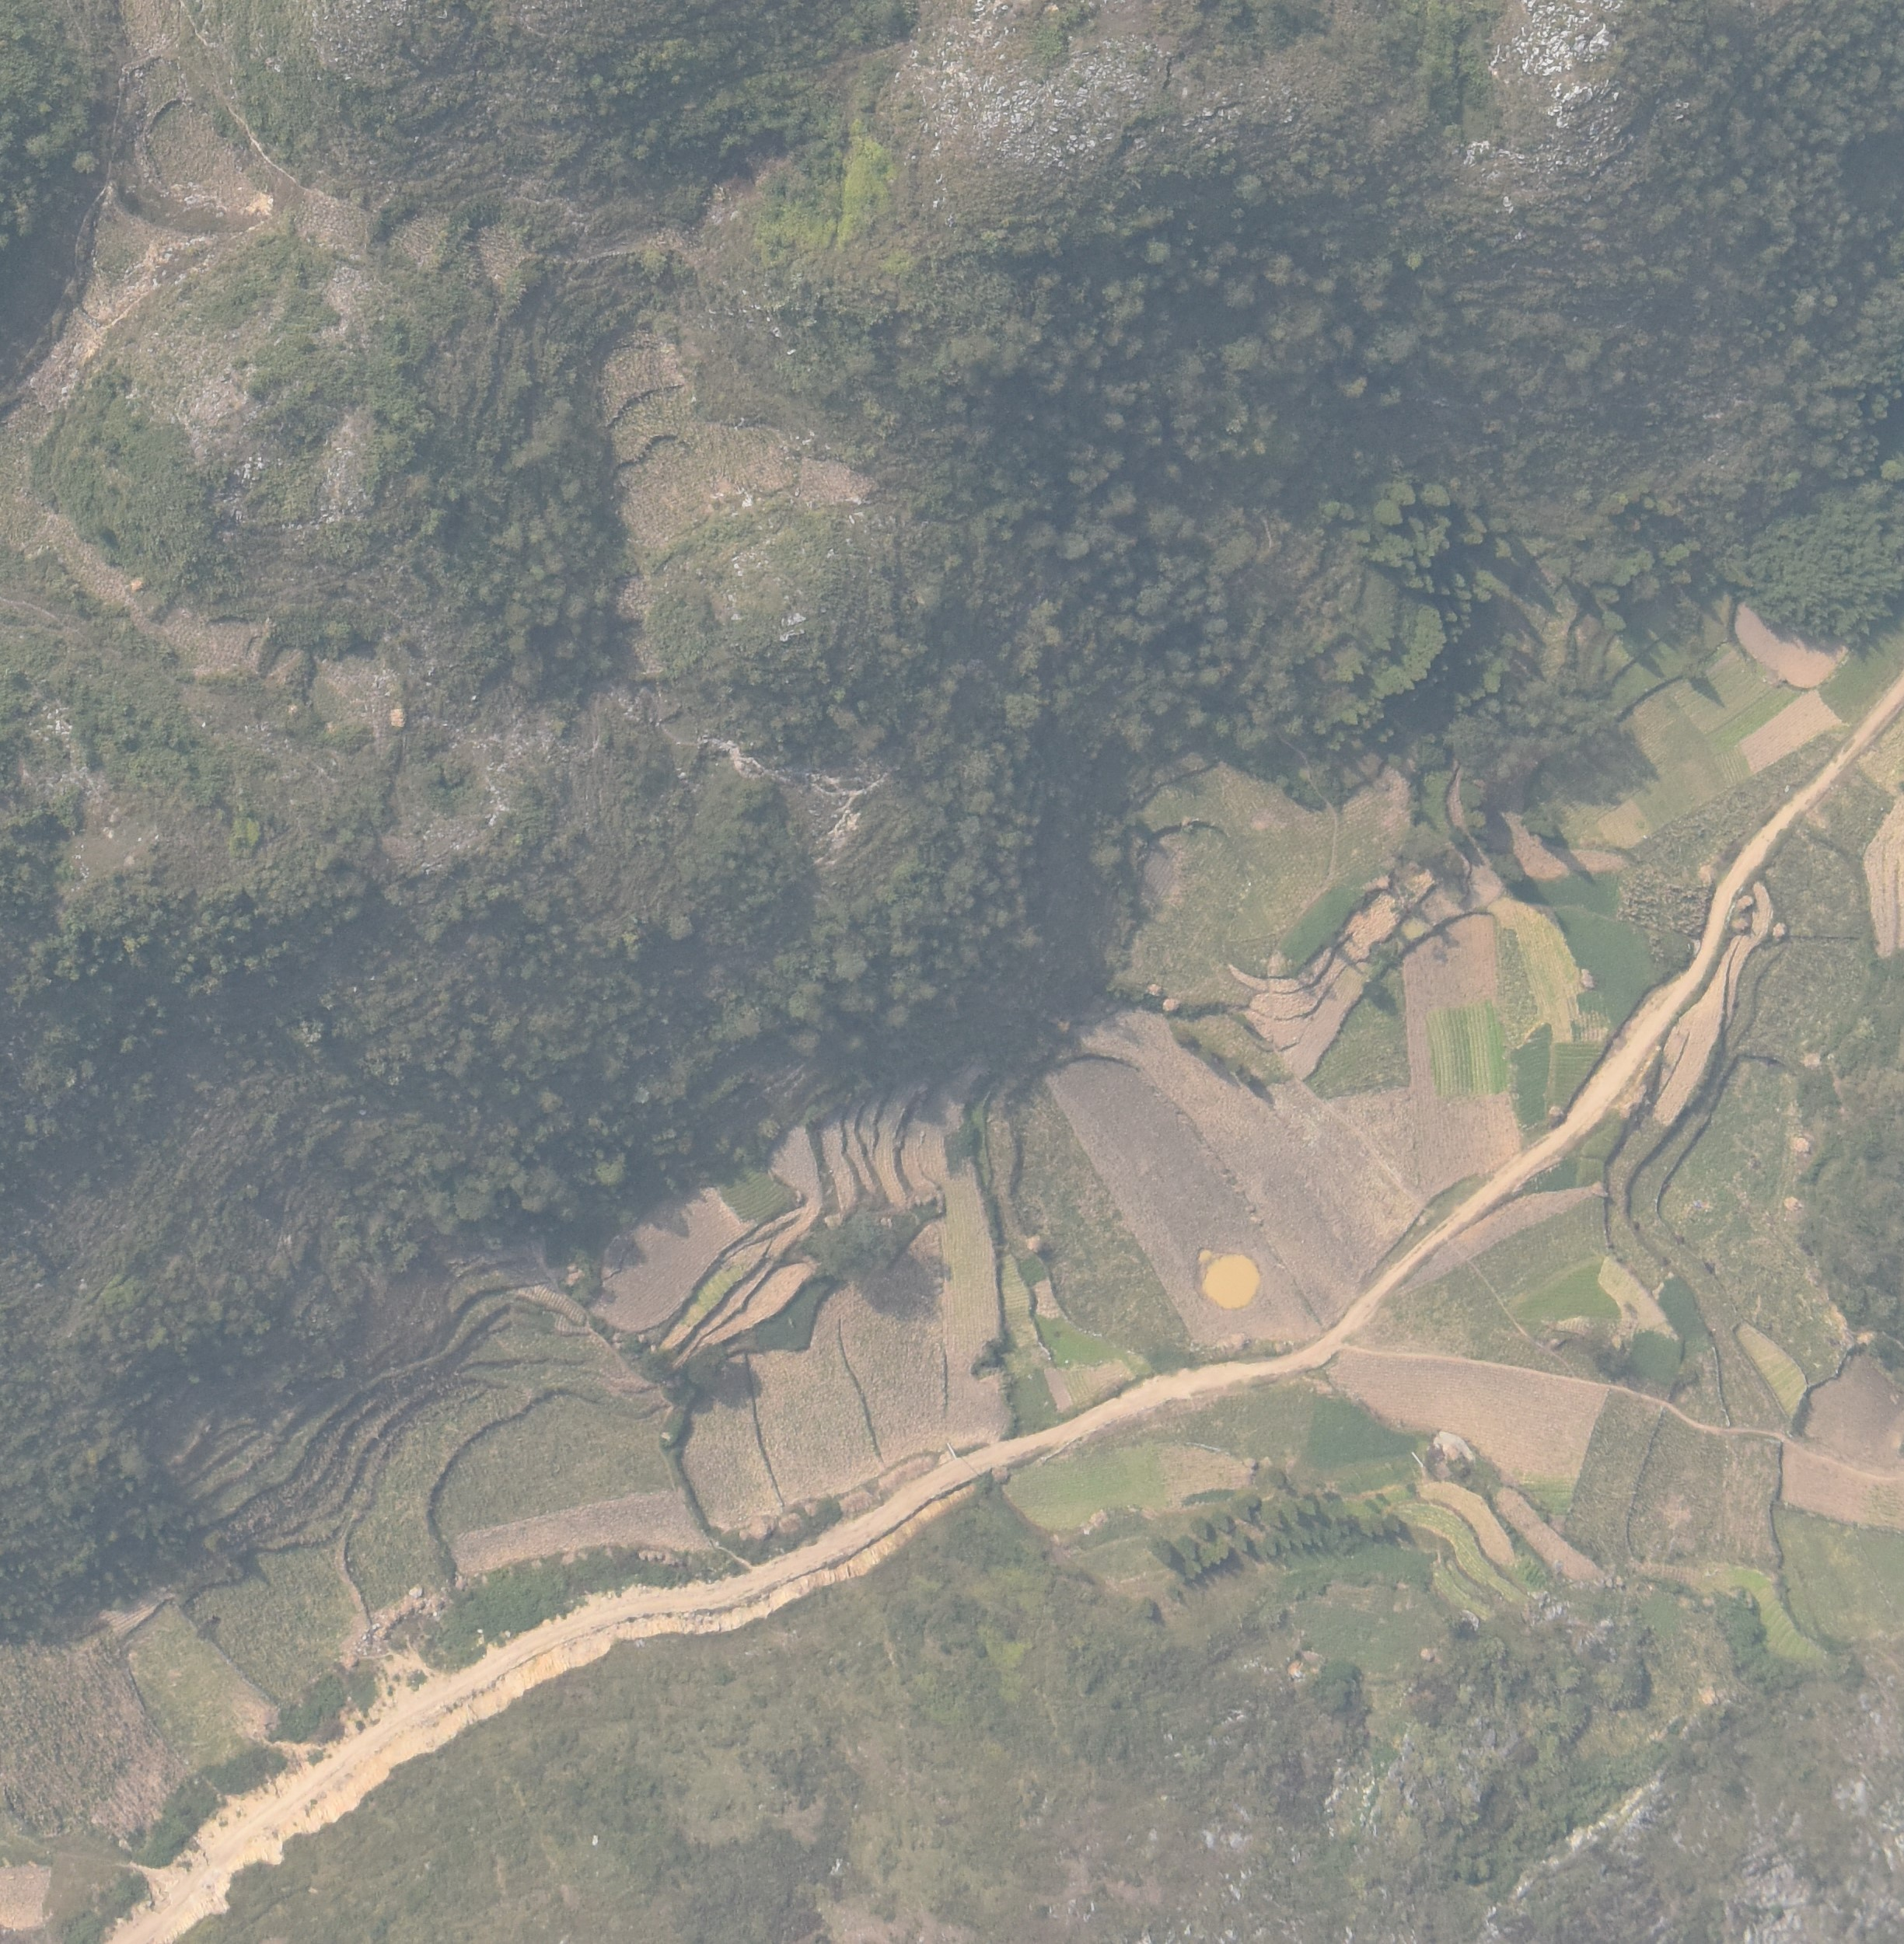pool: (1200, 1247, 1262, 1311)
